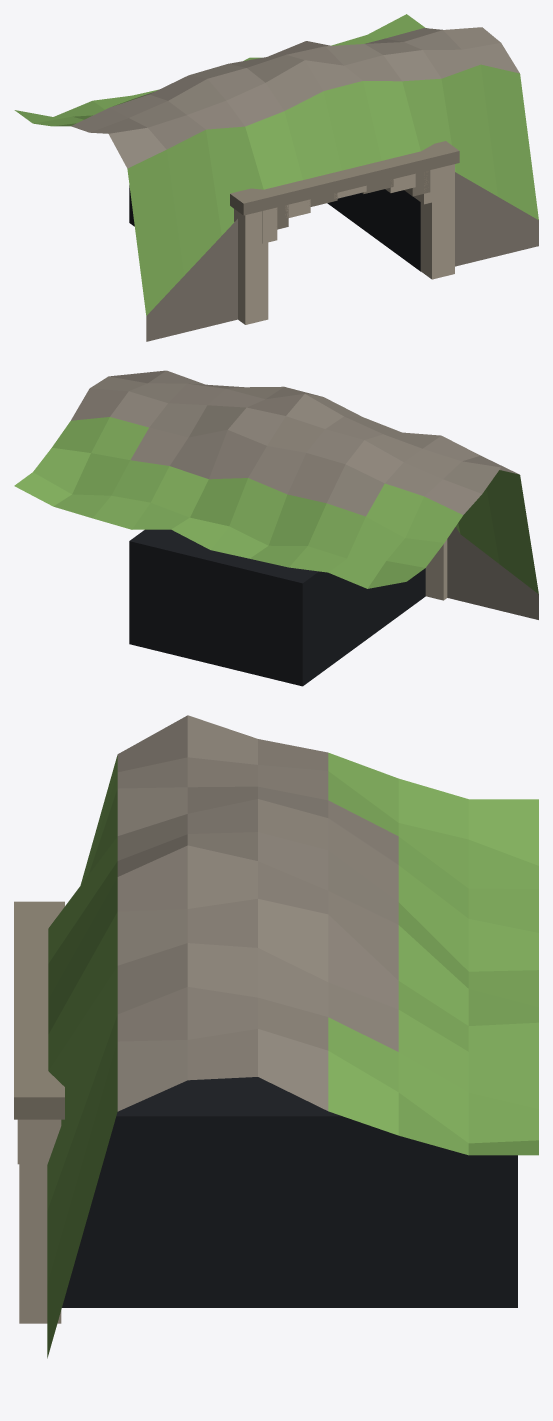
Rendered from tunnel.glb.
3 renders of one model, top to bottom at view 1: azimuth 30°, elevation 25°; view 2: azimuth 150°, elevation 25°; view 3: azimuth 270°, elevation 25°, orthographic. The views are drawn at different scales.
Visible parts, largest first — view 1: tunnel; view 2: tunnel; view 3: tunnel.
Part boxes in pixels (x1=…): tunnel: x1=14, y1=14, x2=538, y2=341; tunnel: x1=14, y1=370, x2=538, y2=686; tunnel: x1=14, y1=715, x2=538, y2=1358.
Bounding box in the file's own units: 24 × 12.06 × 14.95.
